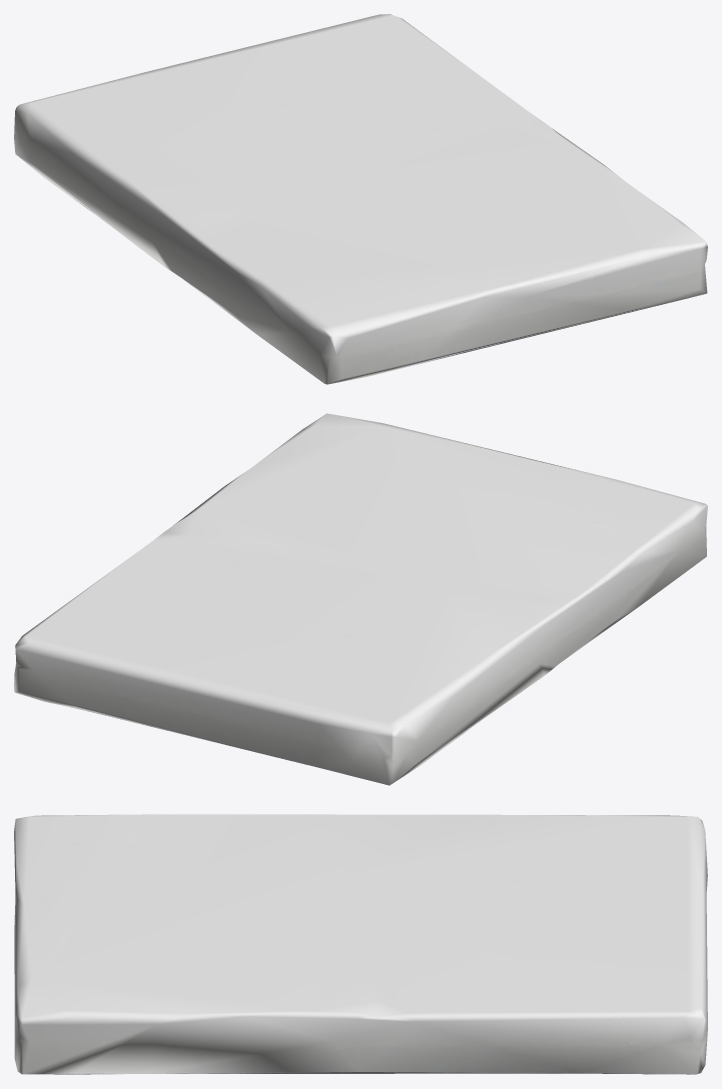
Rendered from 10481640-mini.glb.
3 views of the same model, one above another, from view 1: azimuth 30°, elevation 25°; view 2: azimuth 150°, elevation 25°; view 3: azimuth 270°, elevation 25° (orthographic). The views are drawn at different scales.
Visible parts, largest first — view 1: model; view 2: model; view 3: model.
Boxes of the visible parts, x1,y1,x2,y2 form: model: (14,14,707,384); model: (14,413,707,785); model: (14,814,707,1074).
Bounding box in the file's own units: 1.4 × 0.1983 × 2.
1 material, 1 textured.
